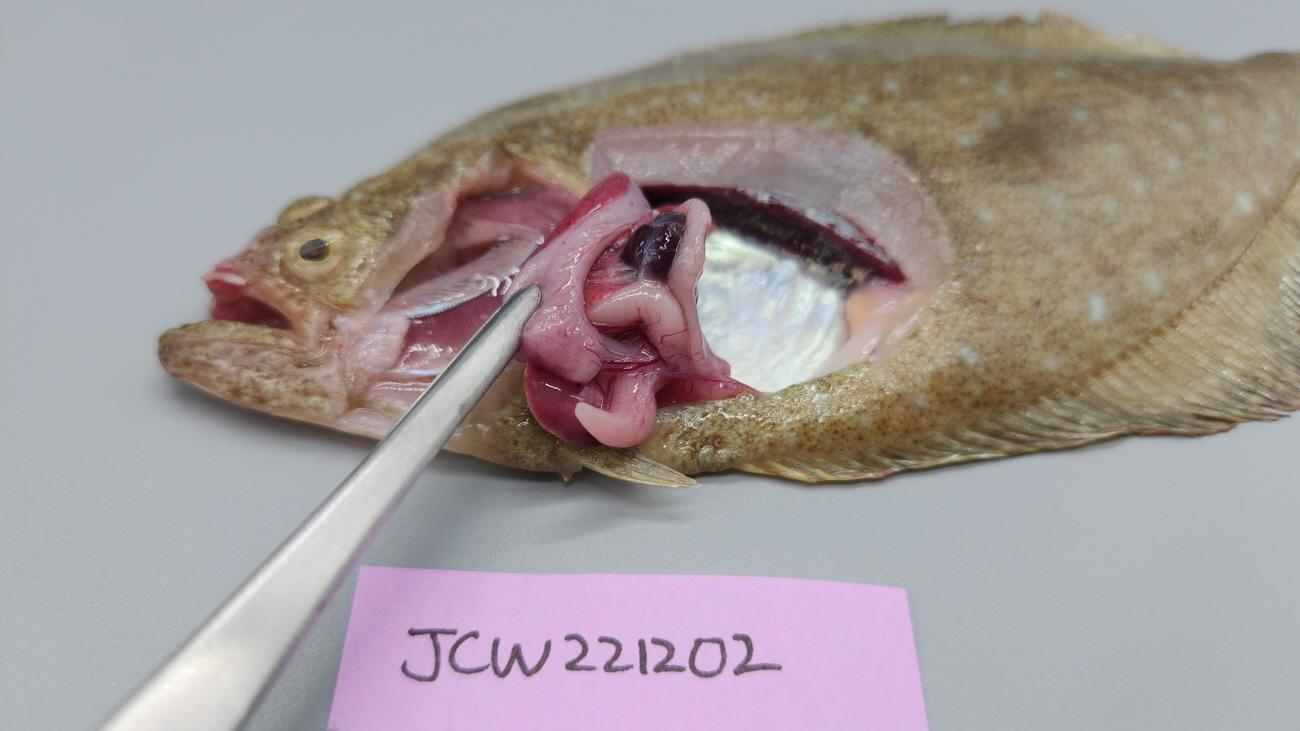VISPE: (620, 212, 686, 282)
